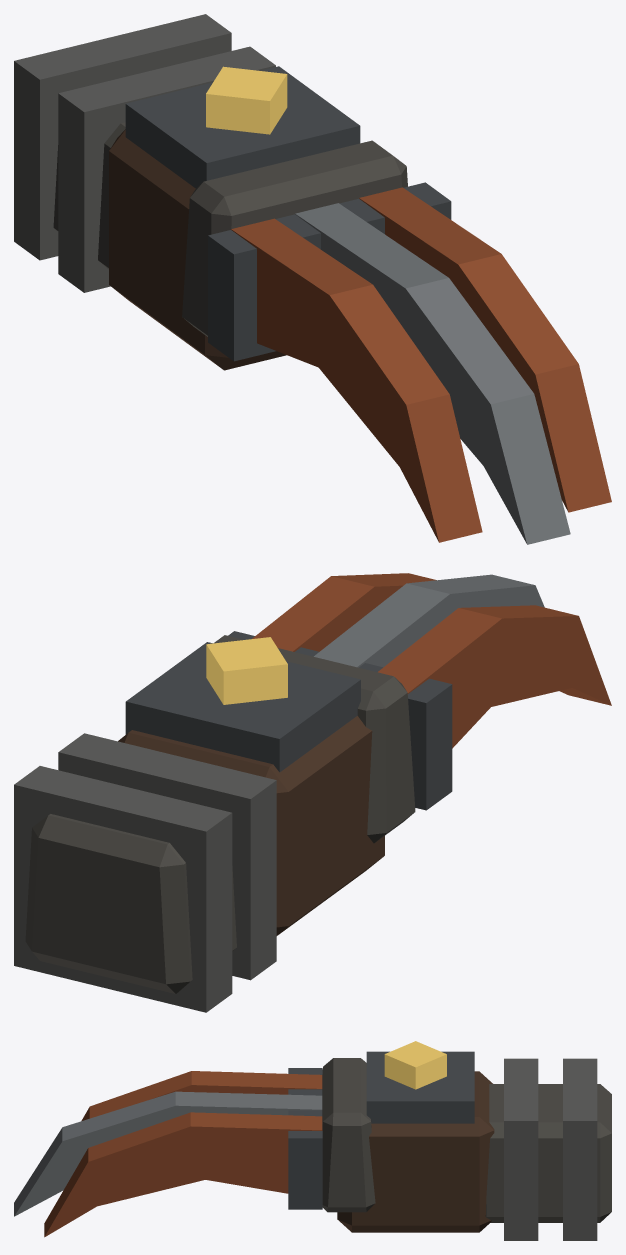
Rendered from item_husk_claws.glb.
The picture shows the model from 3 angles, top to bottom: view 1: azimuth 30°, elevation 25°; view 2: azimuth 150°, elevation 25°; view 3: azimuth 270°, elevation 25°; orthographic projection. The views are drawn at different scales.
Visible parts, largest first — view 1: husk_claws; view 2: husk_claws; view 3: husk_claws.
Part boxes in pixels (x1,y1,x2,y2): husk_claws: (14,14,611,544); husk_claws: (14,573,611,1012); husk_claws: (14,1041,611,1240).
Bounding box in the file's own units: 0.17 × 0.175 × 0.6095.
